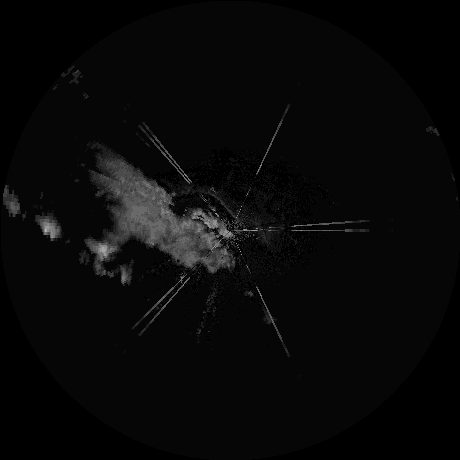frontgust: (173, 188, 245, 225)
